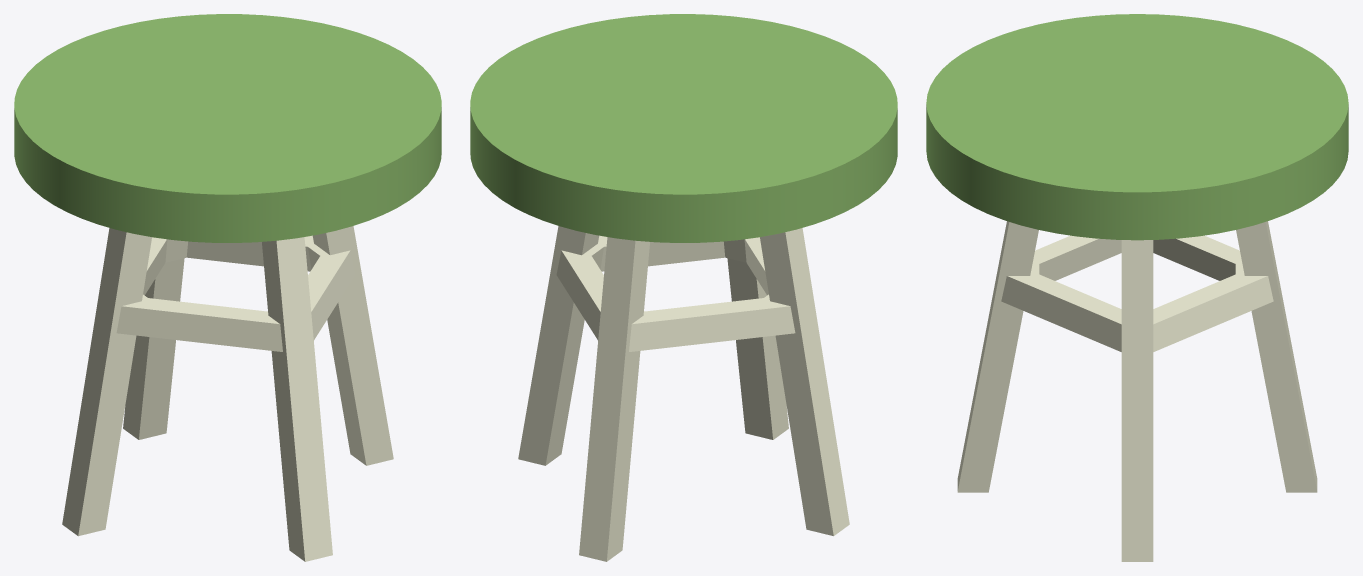
Rendered from chair1_lightgreen.glb.
3 renders of one model, left to right at view 1: azimuth 30°, elevation 25°; view 2: azimuth 150°, elevation 25°; view 3: azimuth 270°, elevation 25°, orthographic.
Visible parts, largest first — view 1: Cylinder002; view 2: Cylinder002; view 3: Cylinder002.
Boxes of the visible parts, x1,y1,x2,y2 form: Cylinder002: (14, 14, 441, 561); Cylinder002: (470, 14, 897, 561); Cylinder002: (926, 14, 1348, 561).
Size of the model in its own units: 0.08 by 0.08 by 0.08.
Materials: 1 (1 with a texture image).
